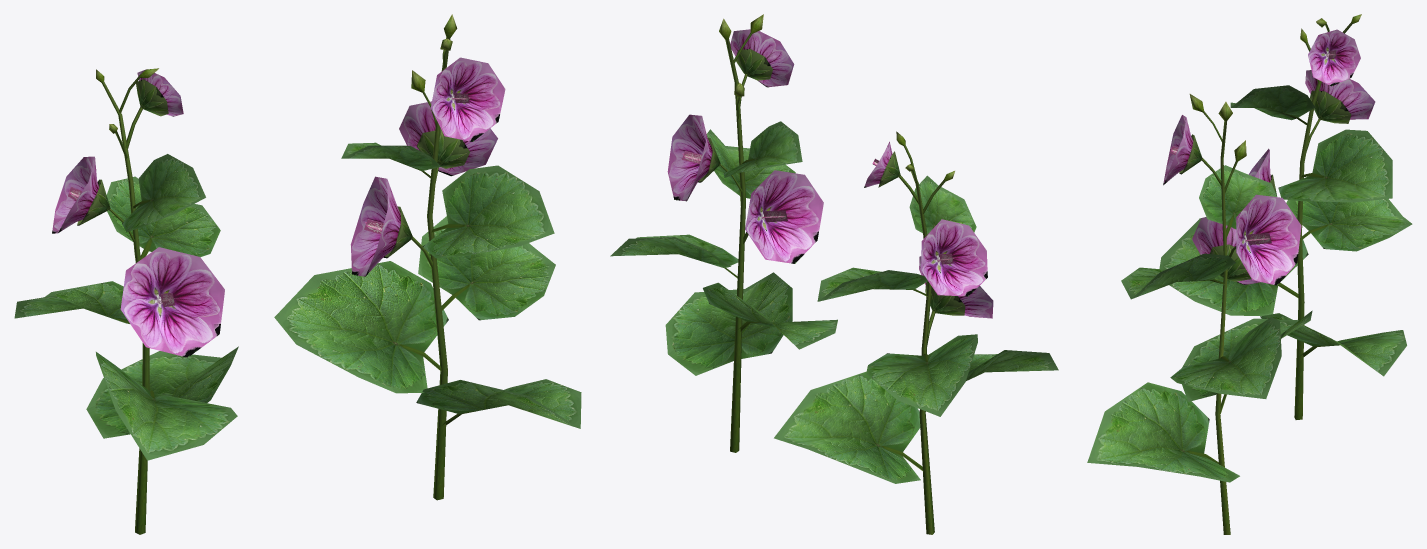
The model's file is Mallow.FBX.
3 views of the same model, side by side, from view 1: azimuth 30°, elevation 25°; view 2: azimuth 150°, elevation 25°; view 3: azimuth 270°, elevation 25° (orthographic). The views are drawn at different scales.
Parts seen in each view (by area): view 1: Mallow, Mallow001; view 2: Mallow, Mallow001; view 3: Mallow, Mallow001.
Part boxes in pixels (box(x1,y1,x2,y2)): Mallow: box(274, 14, 581, 500); Mallow001: box(14, 68, 238, 534); Mallow: box(610, 14, 837, 452); Mallow001: box(774, 131, 1058, 534); Mallow: box(1087, 94, 1312, 534); Mallow001: box(1159, 14, 1412, 419).
Size of the model in its own units: 127 by 128 by 85.95.
